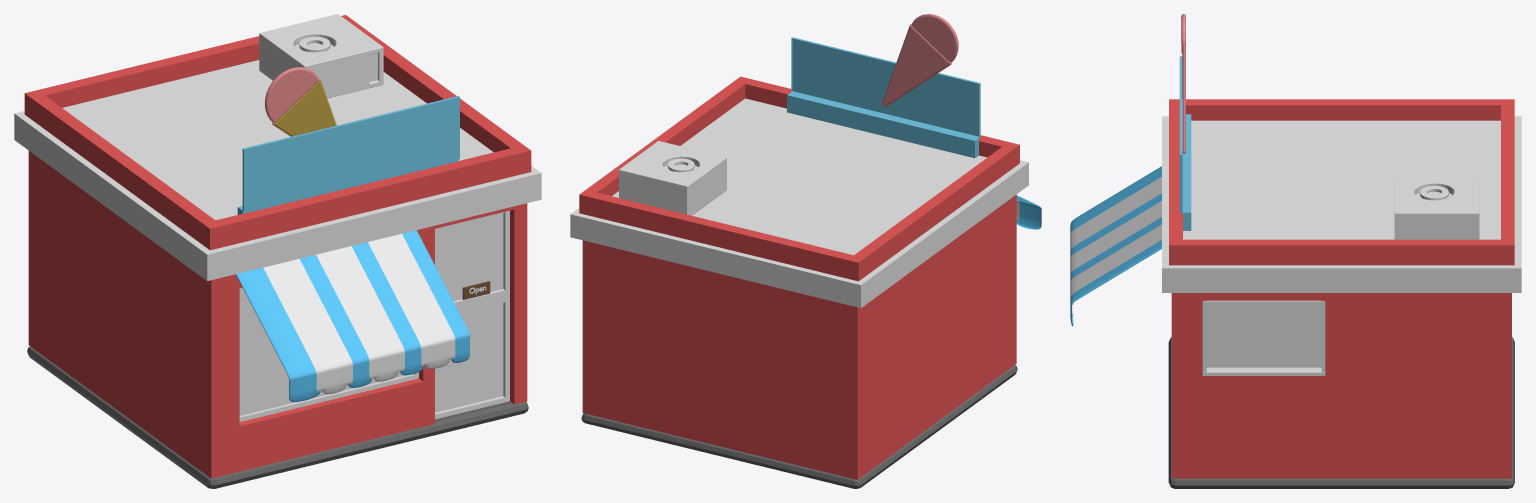
The model's file is ice_cream_shop1.fbx.
3 views of the same model, side by side, from view 1: azimuth 30°, elevation 25°; view 2: azimuth 150°, elevation 25°; view 3: azimuth 270°, elevation 25° (orthographic). The views are drawn at different scales.
Parts seen in each view (by area): view 1: Building, Canopy, Billboard, Air Conditioner, Ground, Ice-Cream Sign; view 2: Building, Billboard, Air Conditioner, Ground, Ice-Cream Sign, Canopy; view 3: Building, Canopy, Air Conditioner, Ground, Billboard, Ice-Cream Sign.
Part boxes in pixels (x1,y1,x2,y2): Building: (14,15,541,478); Canopy: (236,230,469,401); Billboard: (237,96,459,214); Air Conditioner: (259,14,383,98); Ground: (27,346,528,488); Ice-Cream Sign: (264,67,336,136); Building: (570,76,1028,479); Billboard: (787,37,980,158); Air Conditioner: (619,141,726,215); Ground: (581,365,1017,488); Ice-Cream Sign: (882,14,958,106); Canopy: (1016,195,1041,229); Building: (1162,99,1521,478); Canopy: (1070,166,1161,326); Air Conditioner: (1394,177,1479,239); Ground: (1168,337,1514,488); Billboard: (1179,56,1191,230); Ice-Cream Sign: (1181,14,1185,153).
Bounding box in the file's own units: 846 × 960 × 1062.
